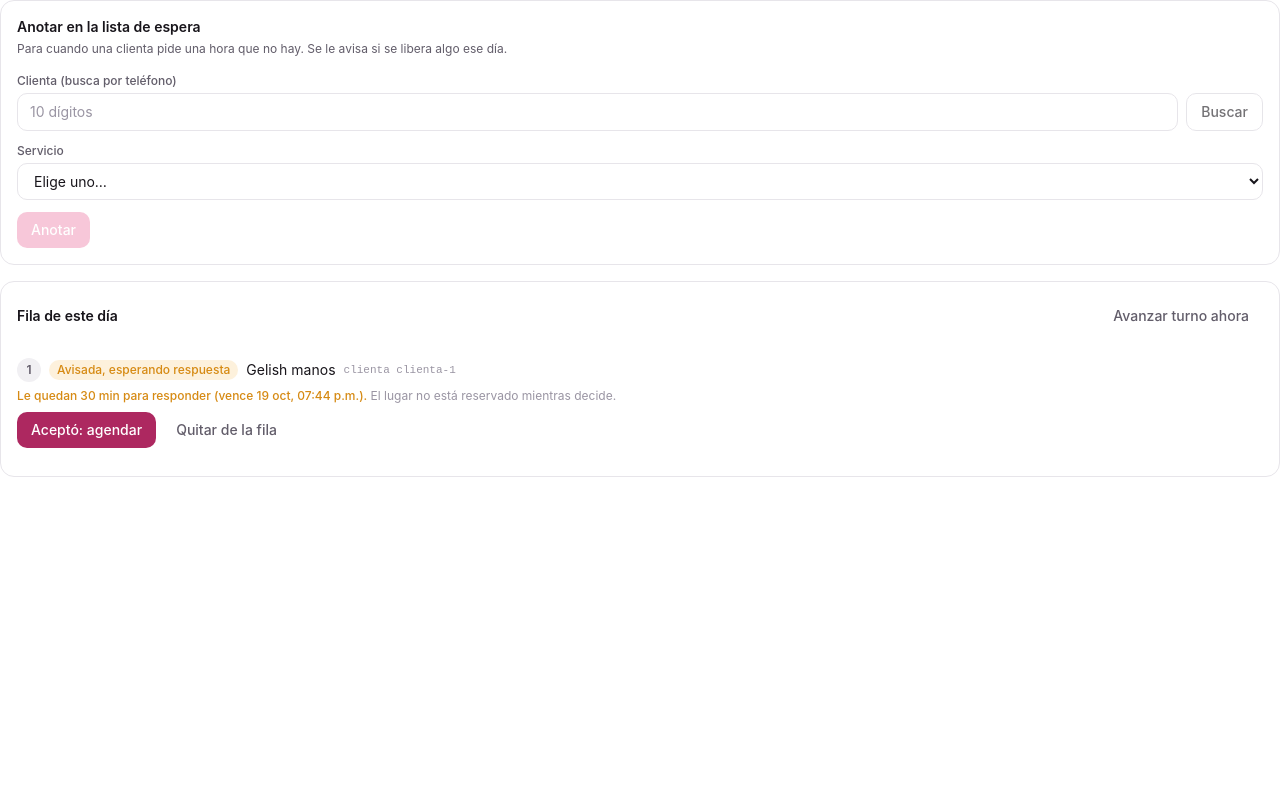
Test case: Lista de espera (`DEC-039`) › si el hueco YA SE TOMÓ mientras decidía, el `409` se explica
Click the button "Aceptó: agendar". click: (87, 430)
box: left=17, top=412, right=156, bottom=448
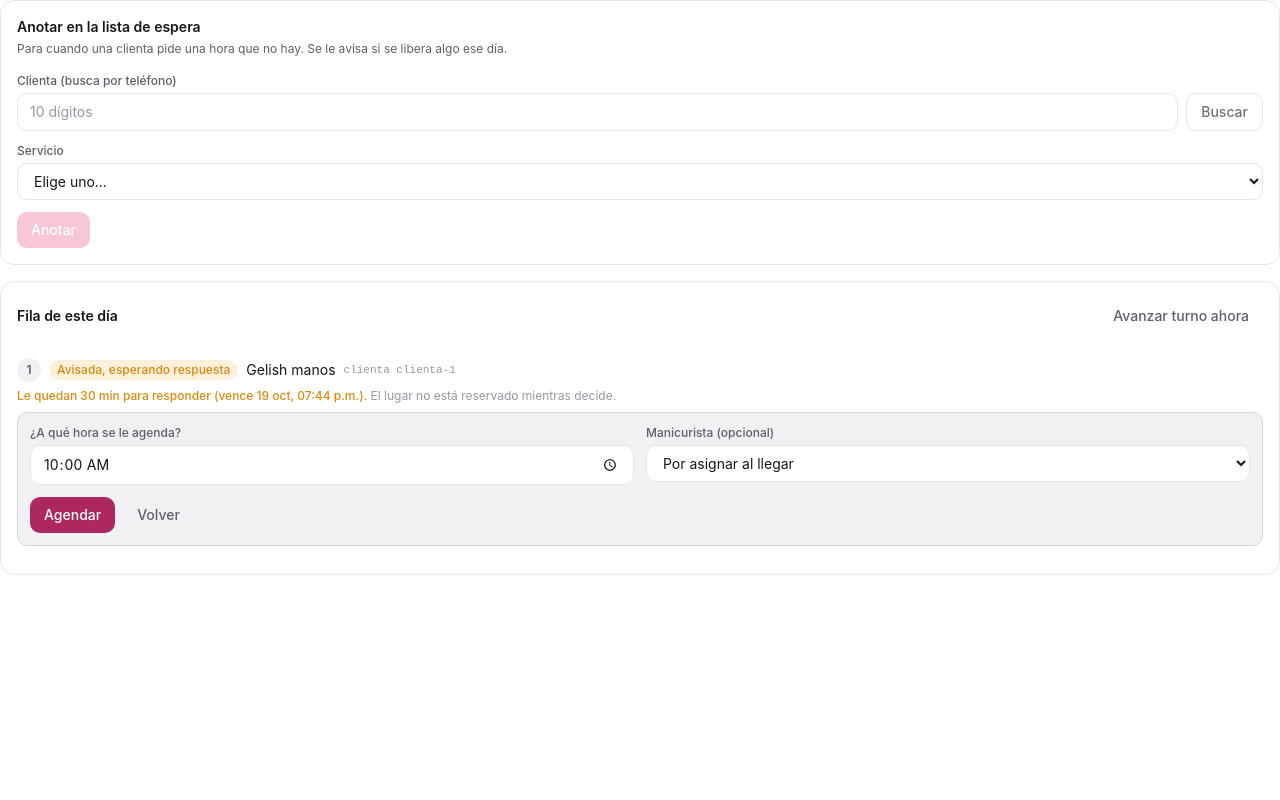
Click the button "Agendar". click: (73, 515)
box: left=30, top=497, right=115, bottom=533
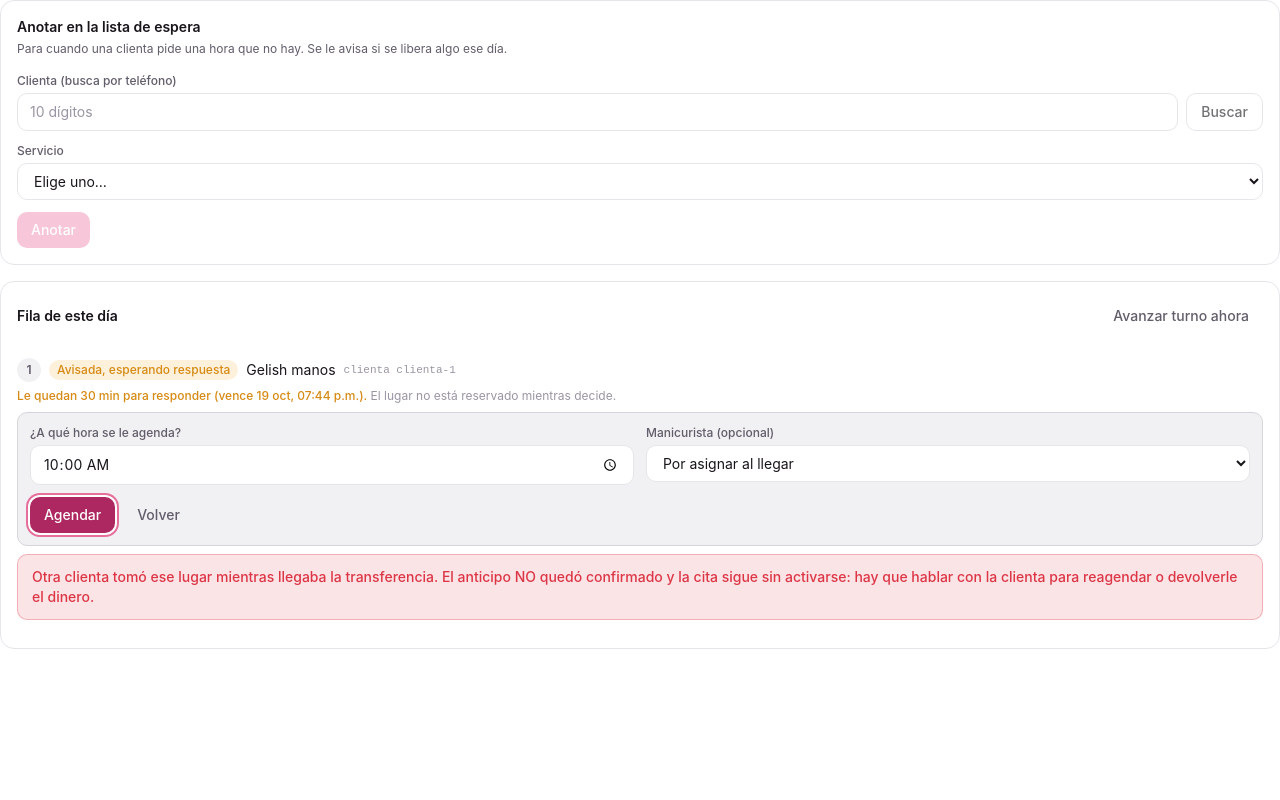
Now the message shows "Otra clienta tomó ese lugar", box left=32, top=568, right=1238, bottom=605
